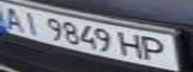4: (78, 24, 96, 51)
8: (60, 19, 81, 46)
9: (39, 15, 66, 42), (93, 26, 118, 54)
A: (0, 4, 30, 32)
H: (115, 30, 148, 61)
I: (18, 8, 45, 36)
P: (139, 34, 175, 63)
